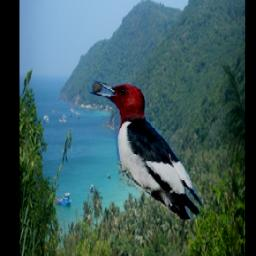Woodpecker: (88, 77, 206, 220)
